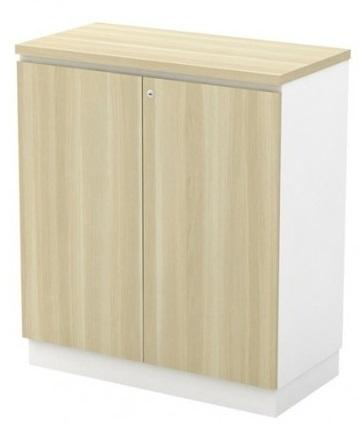cabinet_door: (140, 84, 278, 375), (17, 69, 139, 349)
handle: (145, 86, 158, 106)
